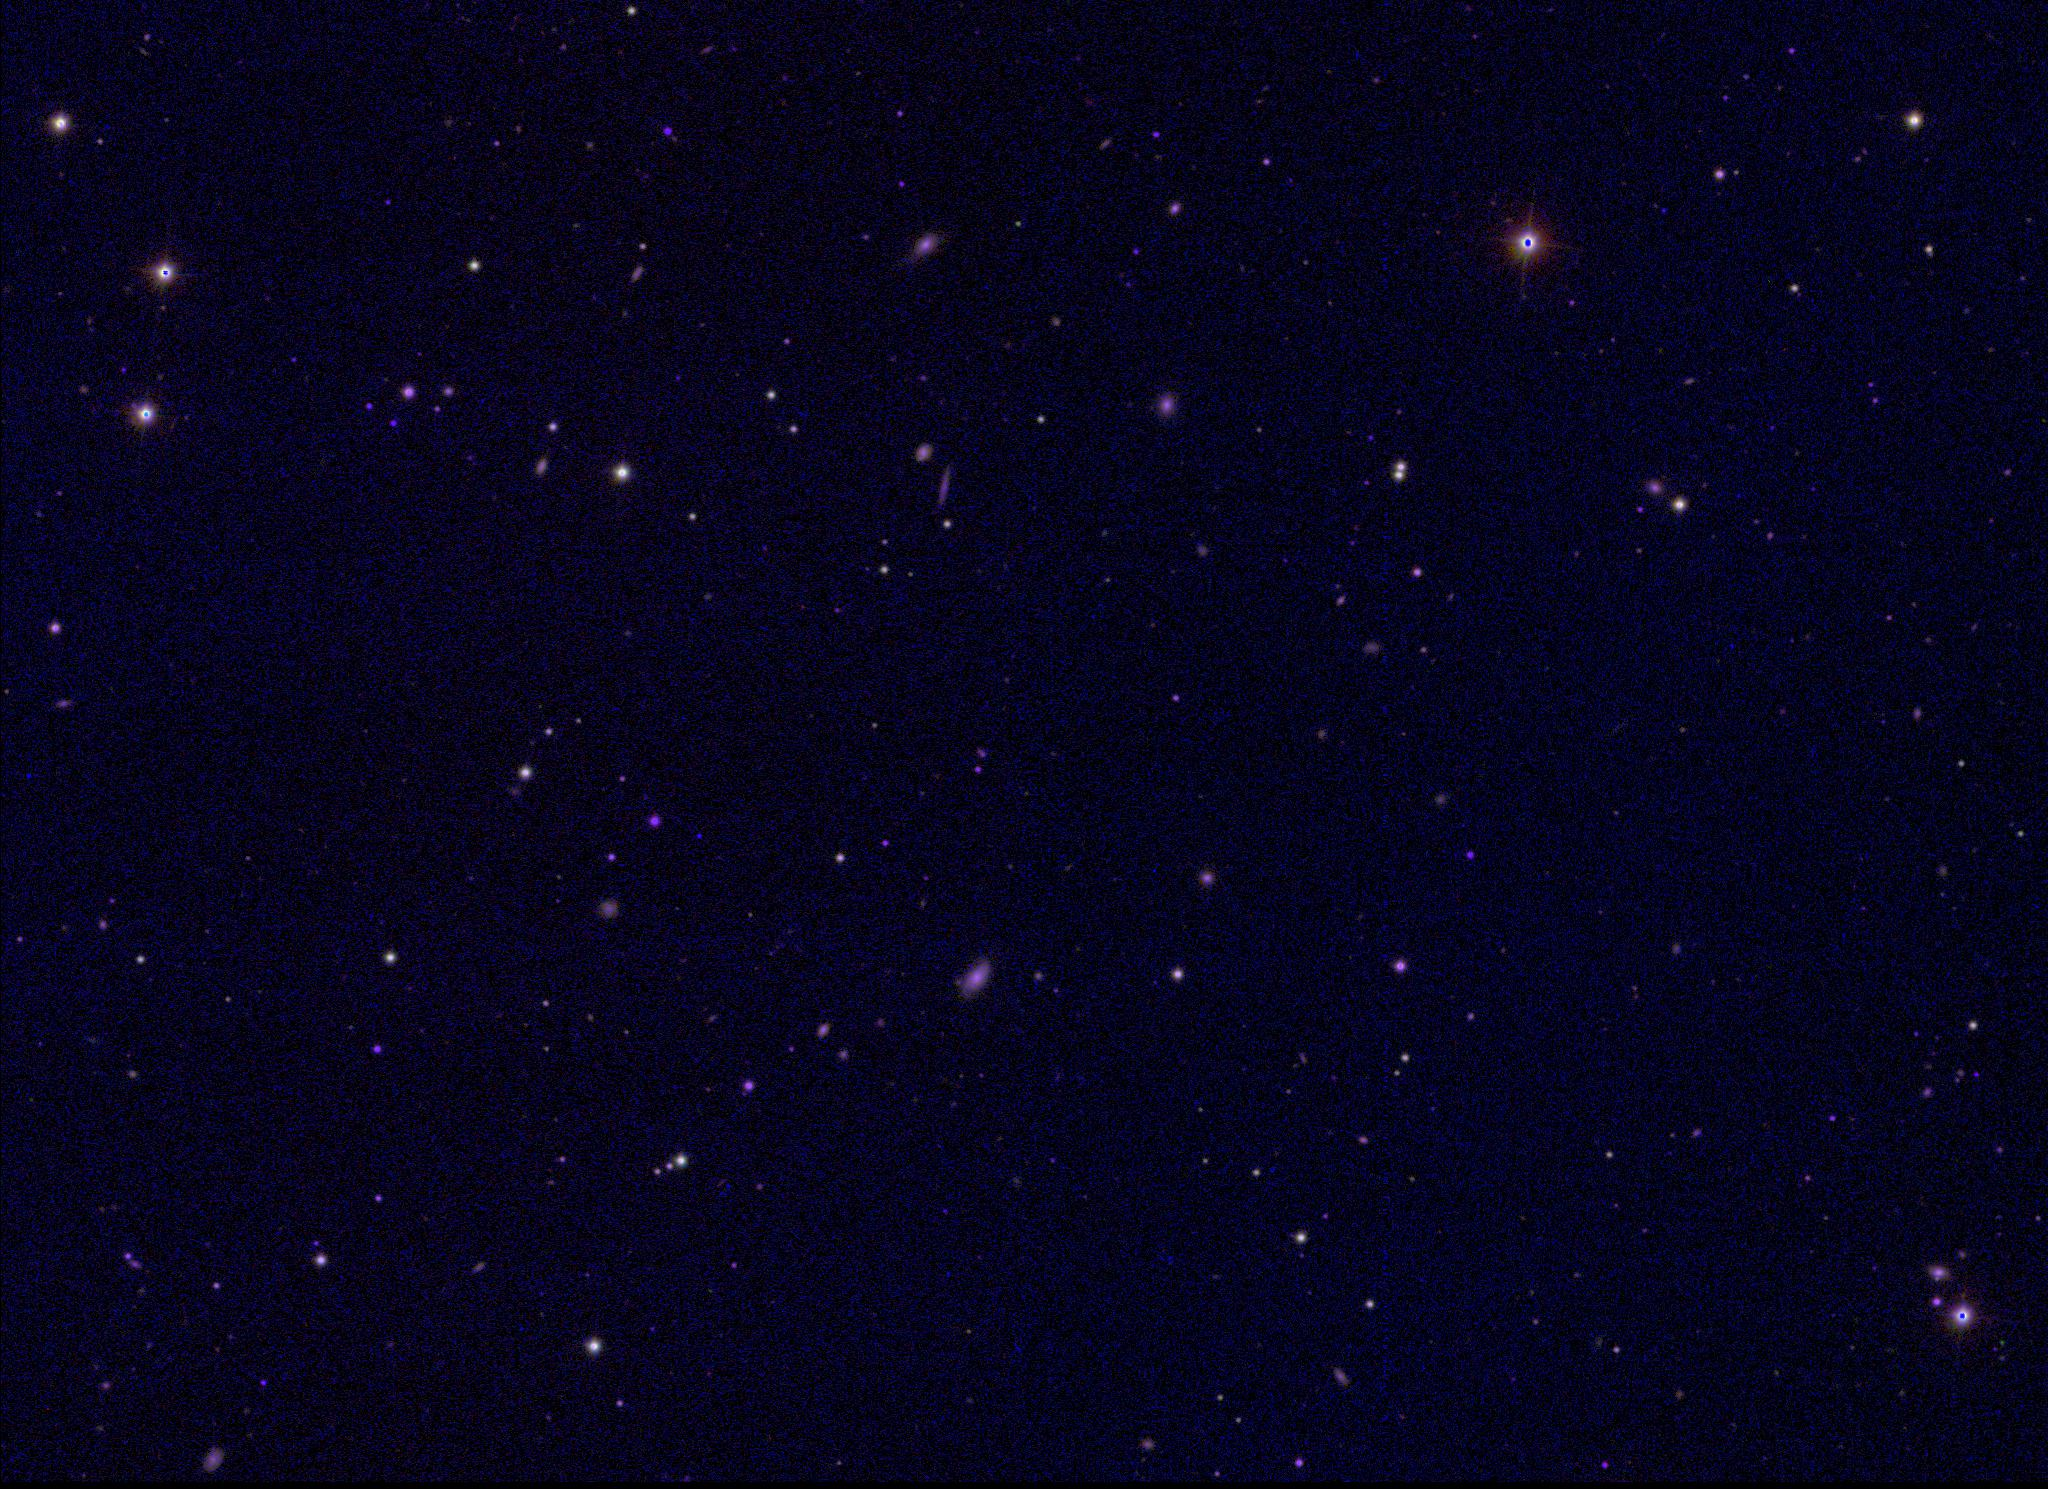L: (696, 827, 711, 842)
